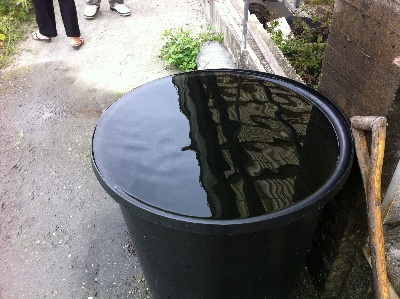bucket: (90, 68, 356, 299)
